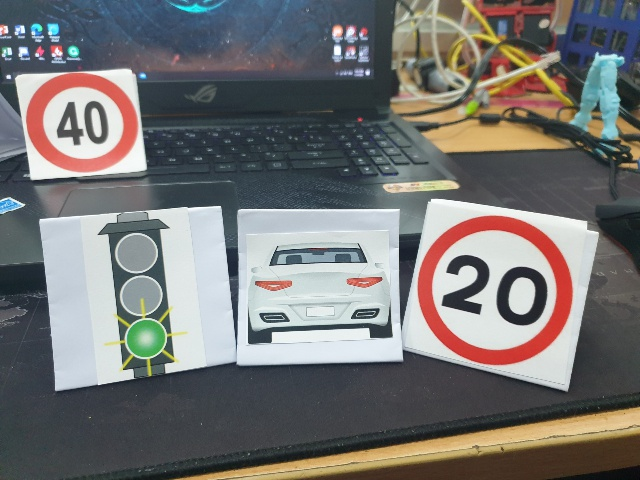Car: (243, 246, 396, 343)
Green Light: (98, 213, 195, 377)
Limit 20: (419, 221, 573, 366)
Limit 40: (27, 73, 139, 170)
